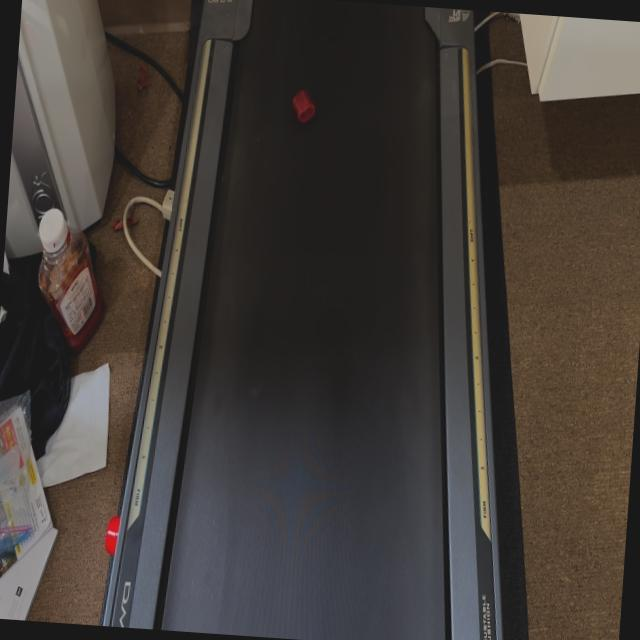Trash: (290, 90, 318, 126)
